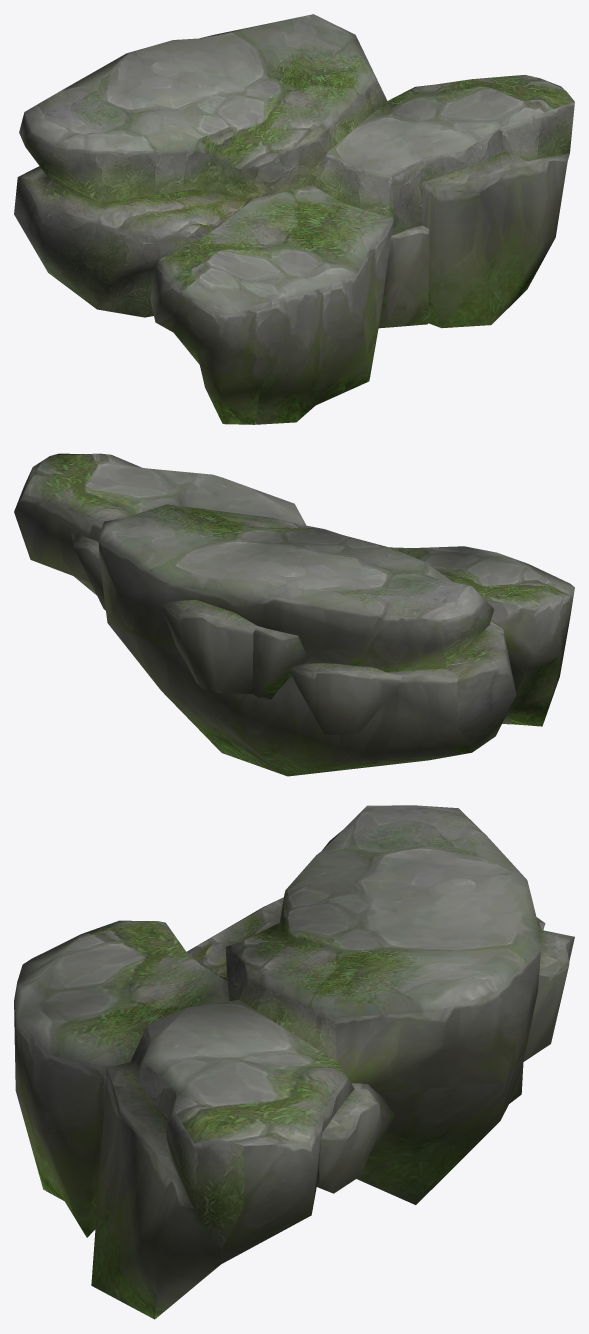
The model's file is fumoshan_shanshi02.FBX.
3 renders of one model, top to bottom at view 1: azimuth 30°, elevation 25°; view 2: azimuth 150°, elevation 25°; view 3: azimuth 270°, elevation 25°, orthographic. The views are drawn at different scales.
Visible parts, largest first — view 1: fumoshan_shanshi02; view 2: fumoshan_shanshi02; view 3: fumoshan_shanshi02.
Boxes of the visible parts, <box> form: fumoshan_shanshi02: <box>14,14,574,424</box>; fumoshan_shanshi02: <box>14,453,574,776</box>; fumoshan_shanshi02: <box>14,805,574,1319</box>.
Bounding box in the file's own units: 2267 × 1072 × 1663.
